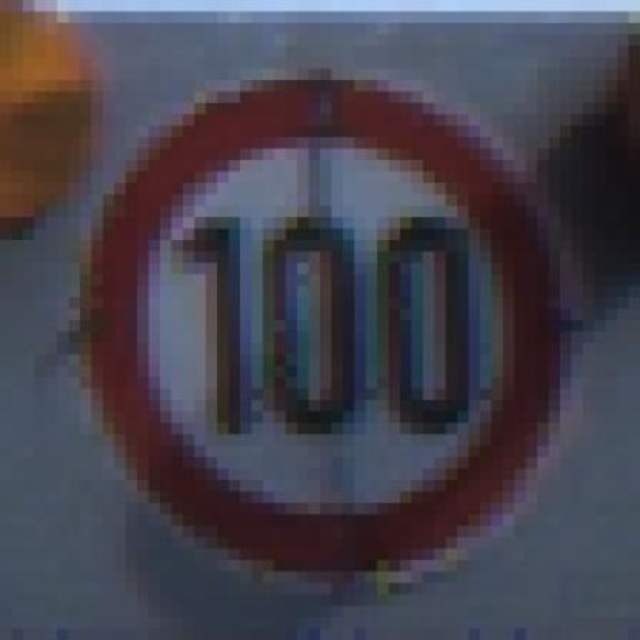Tốc độ tối đa cho phép 100km/h: (101, 83, 564, 575)
